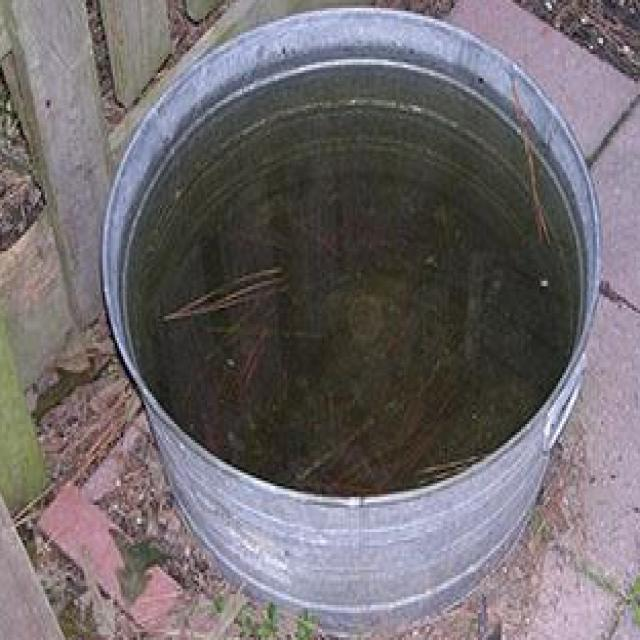Breeding Place: (84, 3, 598, 640)
